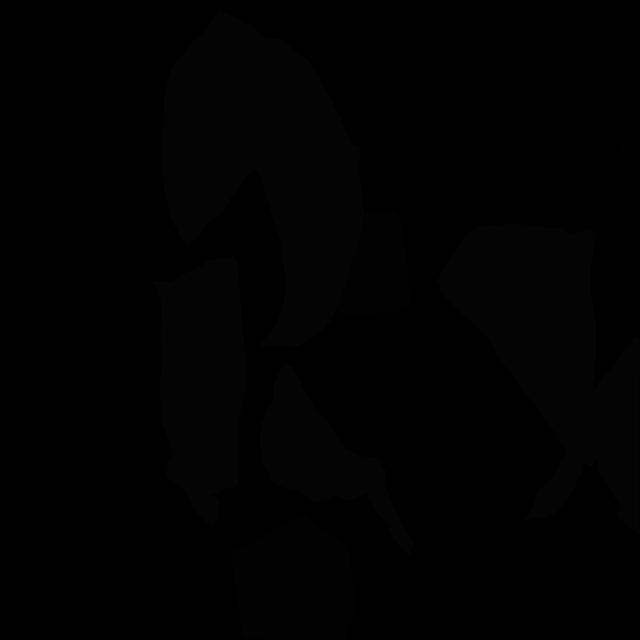cardboard: (230, 513, 354, 640), (336, 209, 411, 317)
rigid_plastic: (616, 115, 640, 194)
soft_plastic: (162, 10, 364, 347), (437, 224, 596, 521), (260, 363, 414, 556), (154, 256, 246, 527), (583, 337, 640, 536)
